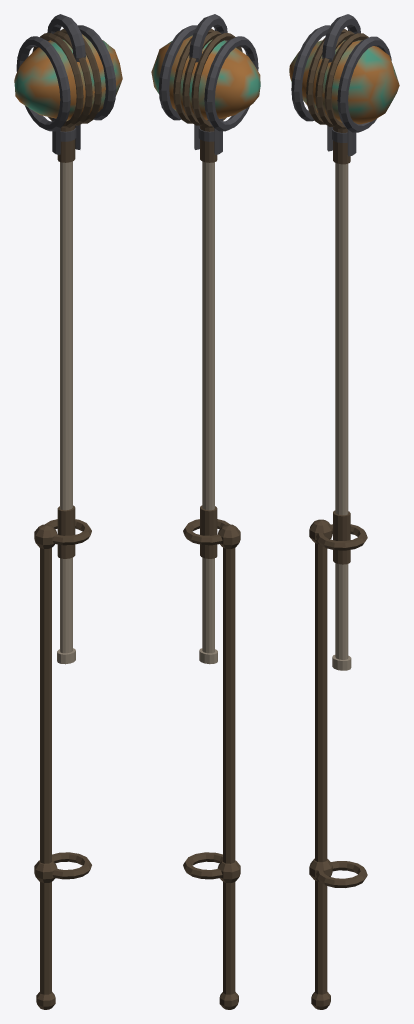
The model's file is tidebell-maul.glb.
The picture shows the model from 3 angles, left to right: view 1: azimuth 30°, elevation 25°; view 2: azimuth 150°, elevation 25°; view 3: azimuth 330°, elevation 25°; orthographic projection.
Parts seen in each view (by area): view 1: weapon, carrier; view 2: weapon, carrier; view 3: weapon, carrier.
Boxes of the visible parts, box(x1,y1,x2,y2) form: weapon: box(14, 14, 122, 664); carrier: box(34, 519, 91, 1009); weapon: box(151, 14, 260, 664); carrier: box(183, 519, 240, 1009); weapon: box(289, 14, 399, 670); carrier: box(309, 519, 367, 1009).
Size of the model in its own units: 0.2203 by 2.07 by 0.186.
